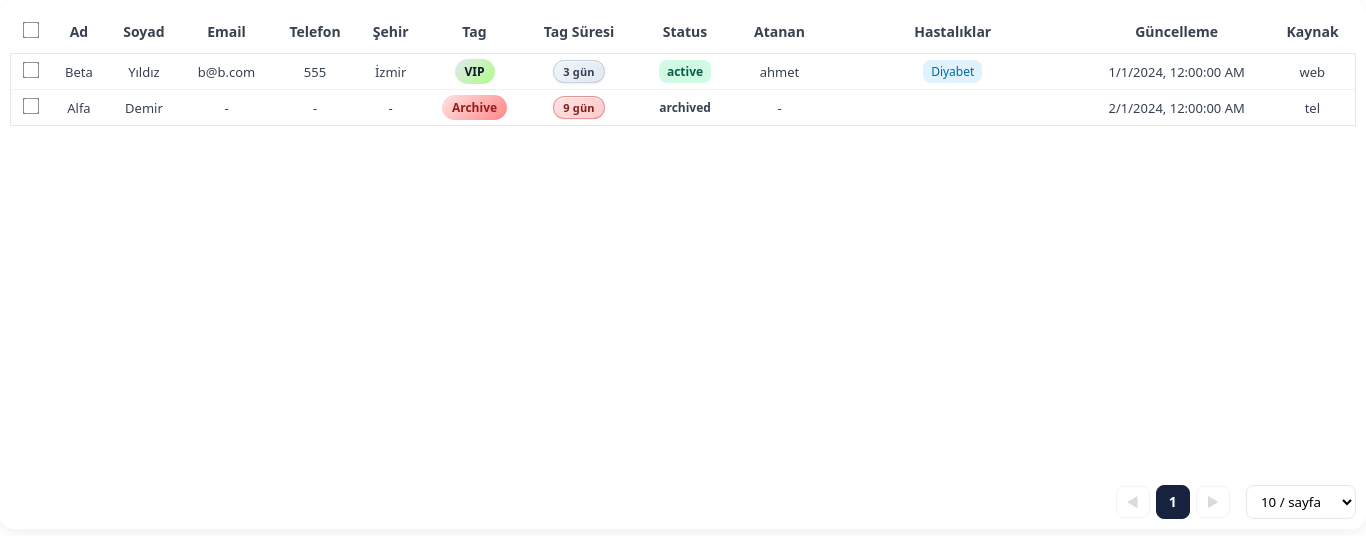
Test: CustomerList › sorting › toggles to descending on a second click
Click the column heading "Ad" at (79, 32), box [50,10,107,54]
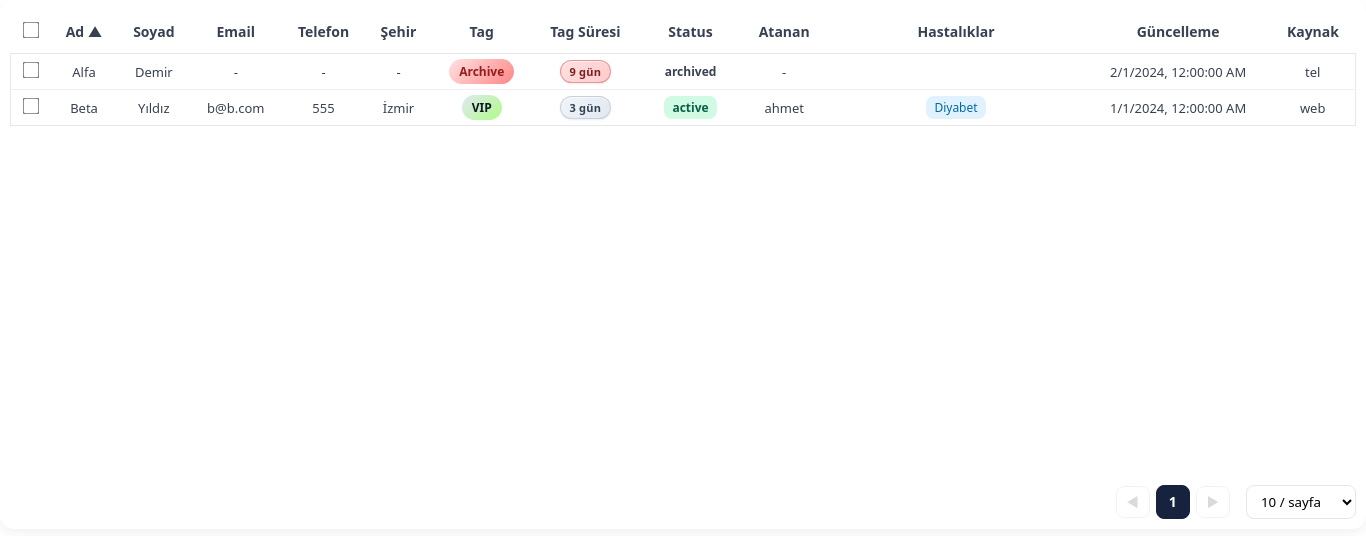
Click the column heading "Ad ▲" at (84, 32), box [50,10,118,54]
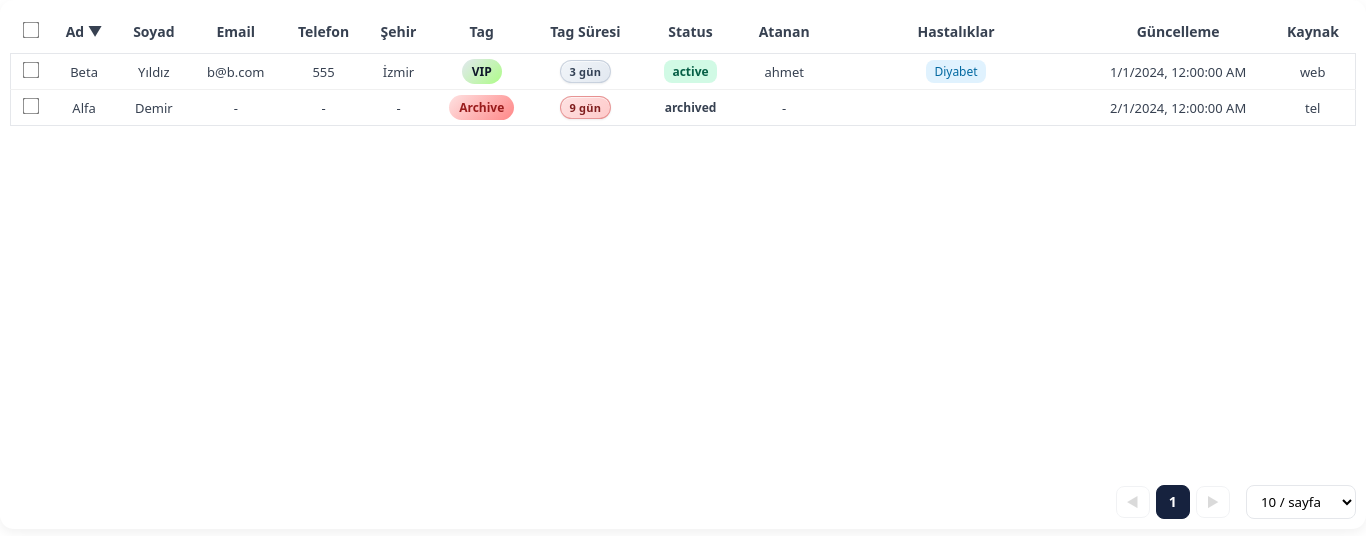
Expected: the link "Beta" is shown, [70,62,98,80]
